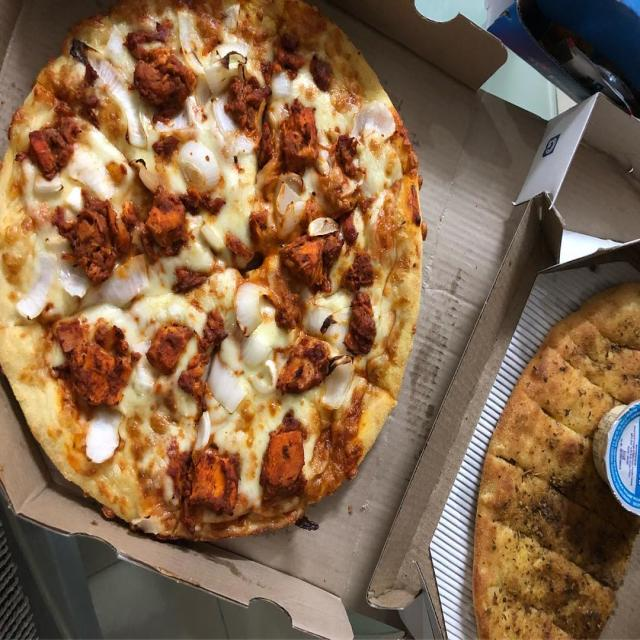pizza: (0, 0, 428, 544)
